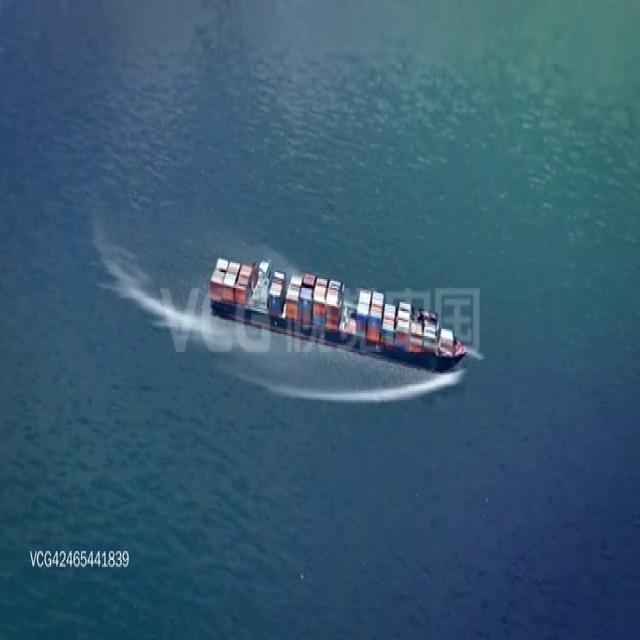cargoship: (208, 250, 466, 374)
